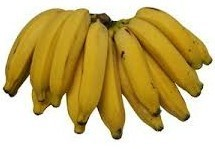banana: (14, 12, 202, 118)
